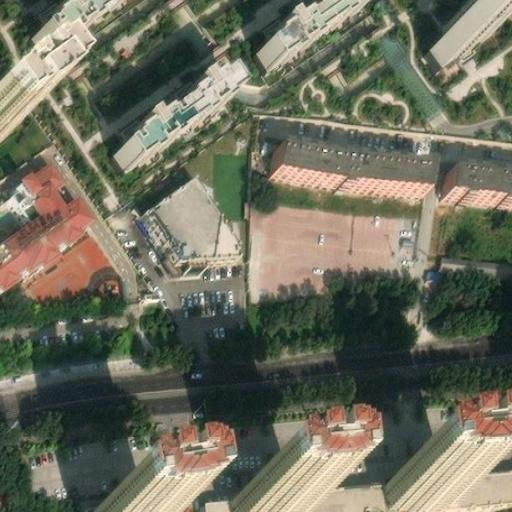building: (0, 156, 97, 288), (120, 72, 236, 163), (145, 171, 243, 253), (269, 143, 429, 191), (259, 0, 358, 64), (381, 460, 463, 509), (304, 477, 384, 512), (234, 479, 307, 512), (443, 167, 512, 201), (447, 461, 512, 497), (437, 247, 512, 276), (130, 496, 159, 512), (419, 471, 432, 485), (266, 488, 279, 499)
